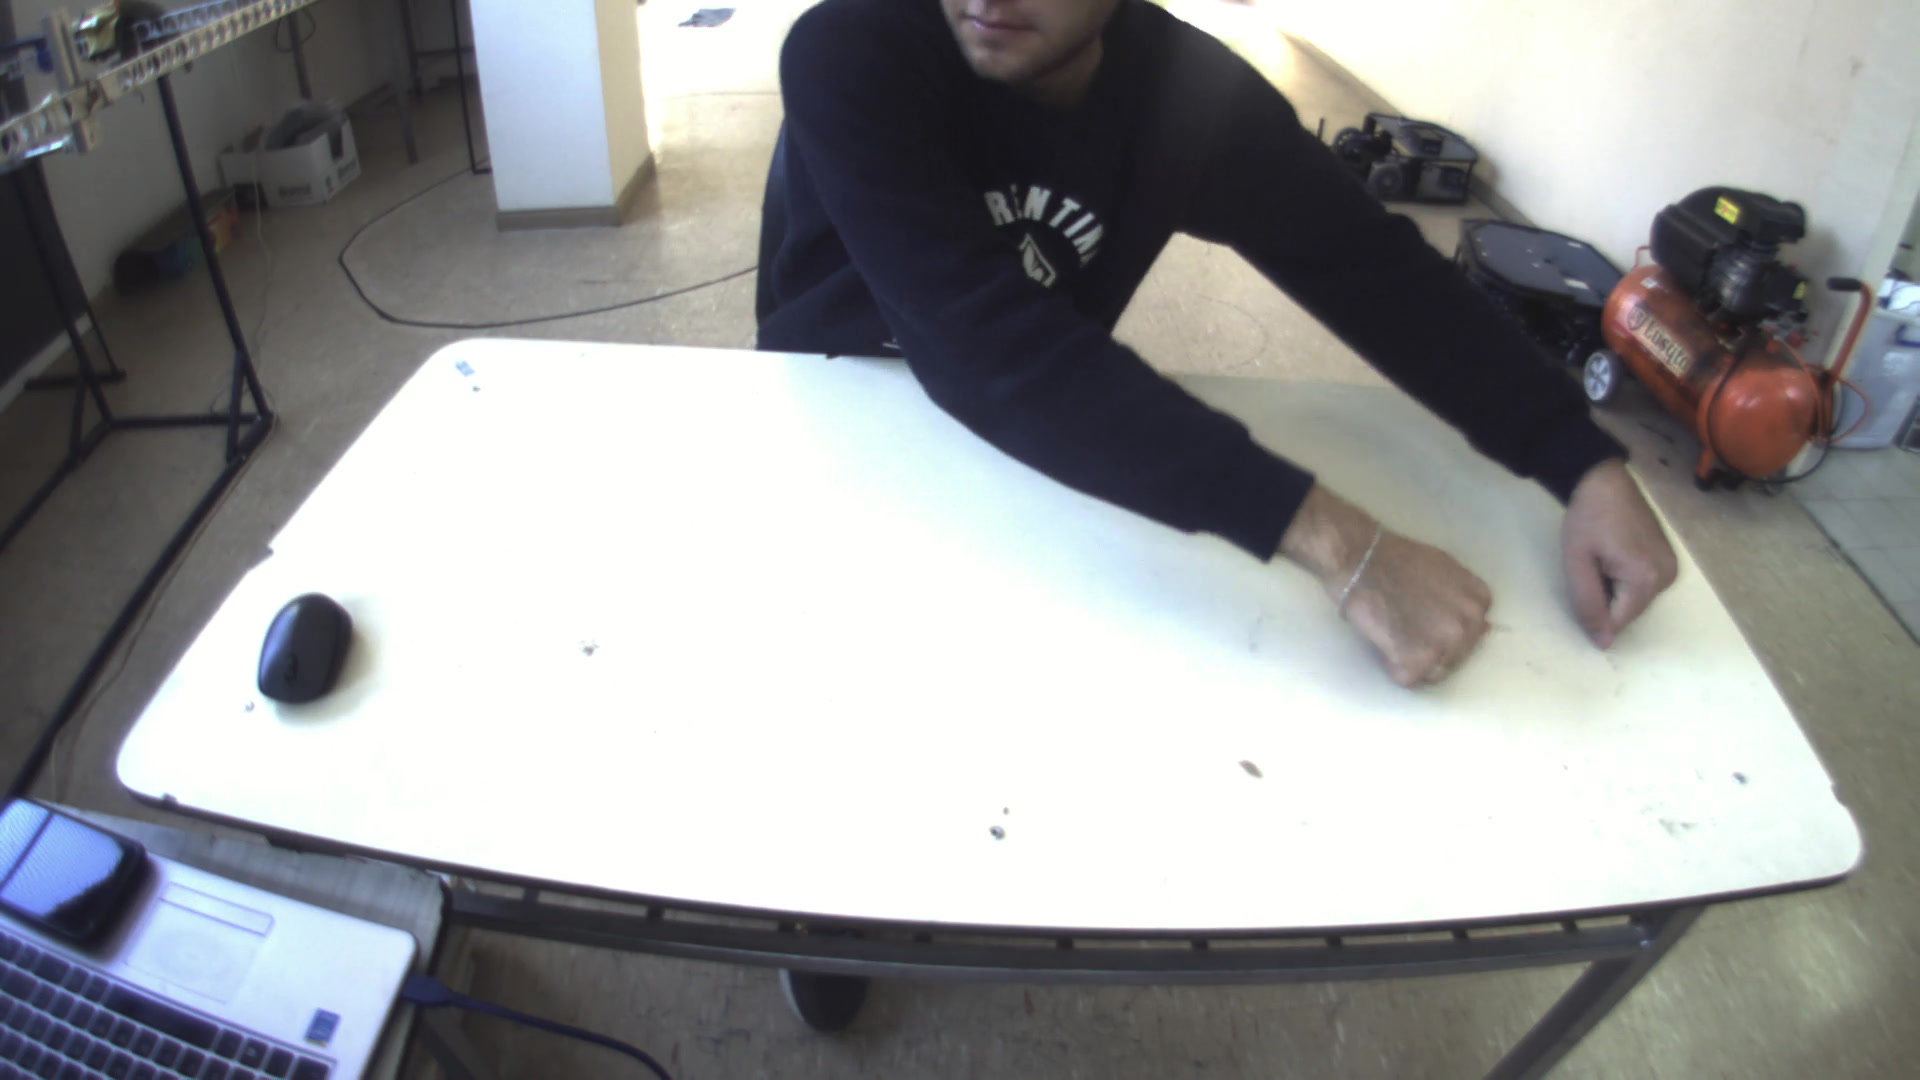hand: (1287, 495, 1509, 694), (1553, 462, 1687, 655)
